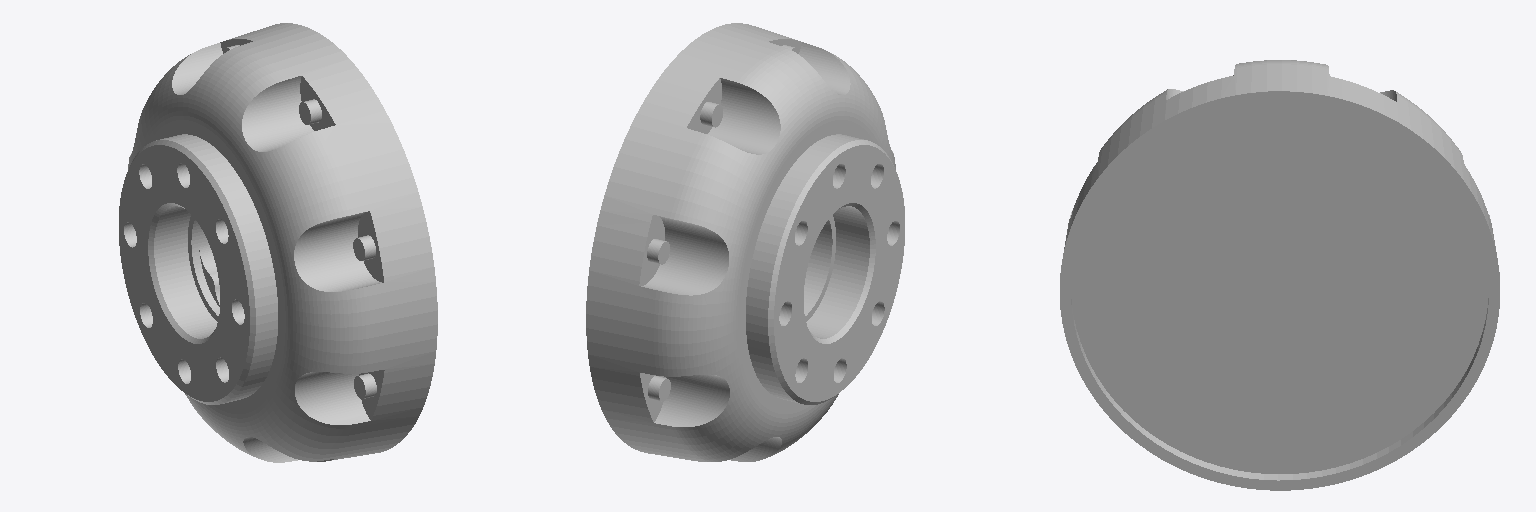
3 renders of one model, left to right at view 1: azimuth 30°, elevation 25°; view 2: azimuth 150°, elevation 25°; view 3: azimuth 270°, elevation 25°, orthographic.
Visible parts, largest first — view 1: Link_7; view 2: Link_7; view 3: Link_7.
Boxes of the visible parts, box(x1,y1,x2,y2) form: Link_7: box(119, 23, 437, 462); Link_7: box(586, 23, 904, 461); Link_7: box(1060, 60, 1499, 490).
Size of the model in its own units: 0.0384 by 0.1022 by 0.1022.